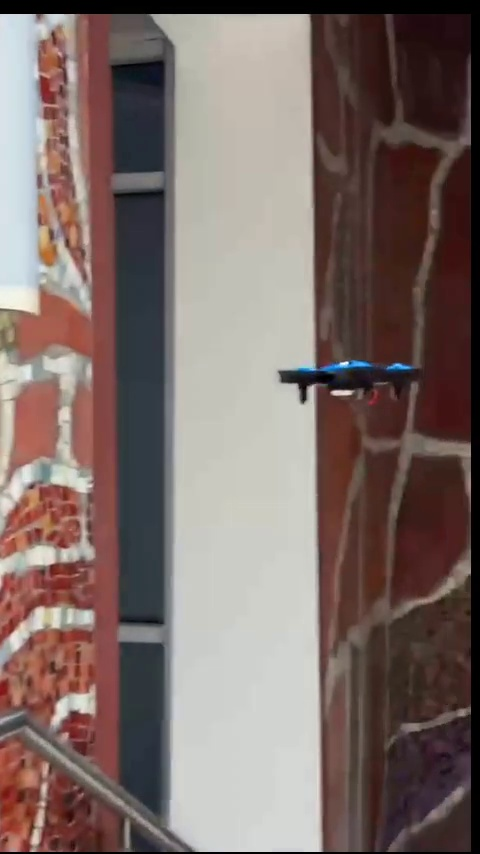drone: (283, 358, 426, 414)
